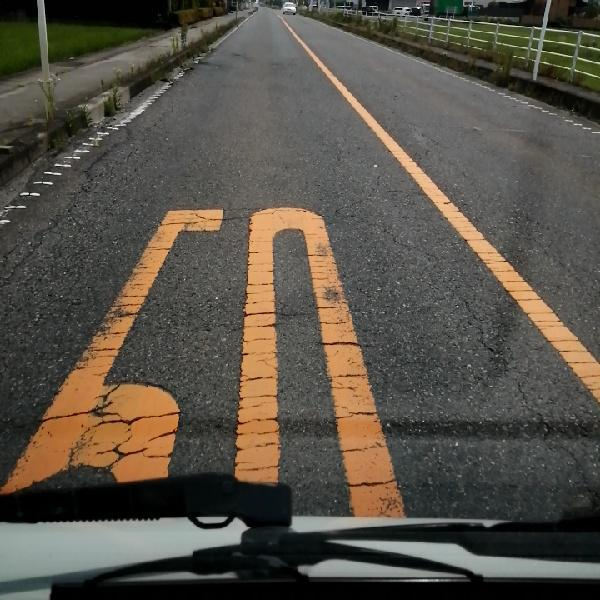D00: (444, 282, 592, 493), (7, 125, 134, 287)
